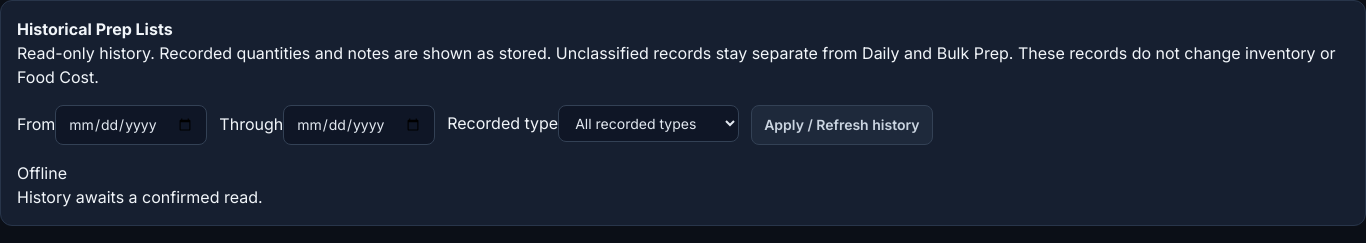
Test: failed and wrong-location reads cannot appear as a confirmed empty archive
The width and height of the screenshot is (1366, 243).
Expected: the message "Offline" is shown, x1=17 y1=163 x2=67 y2=183
Click the button "Apply / Refresh history" at (842, 125), box x1=751 y1=105 x2=932 y2=145
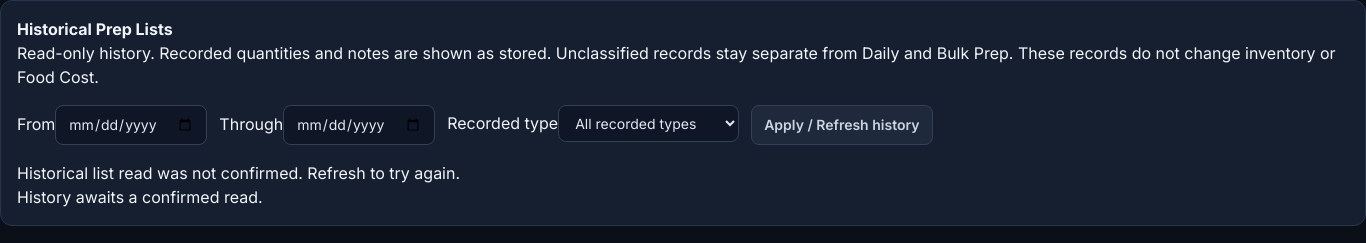
Expected: the text "was not confirmed" is shown, x1=17 y1=163 x2=460 y2=183
